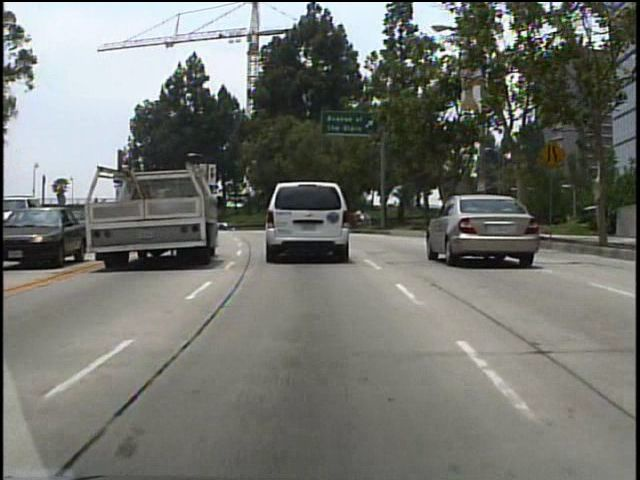person: (454, 193, 473, 234)
